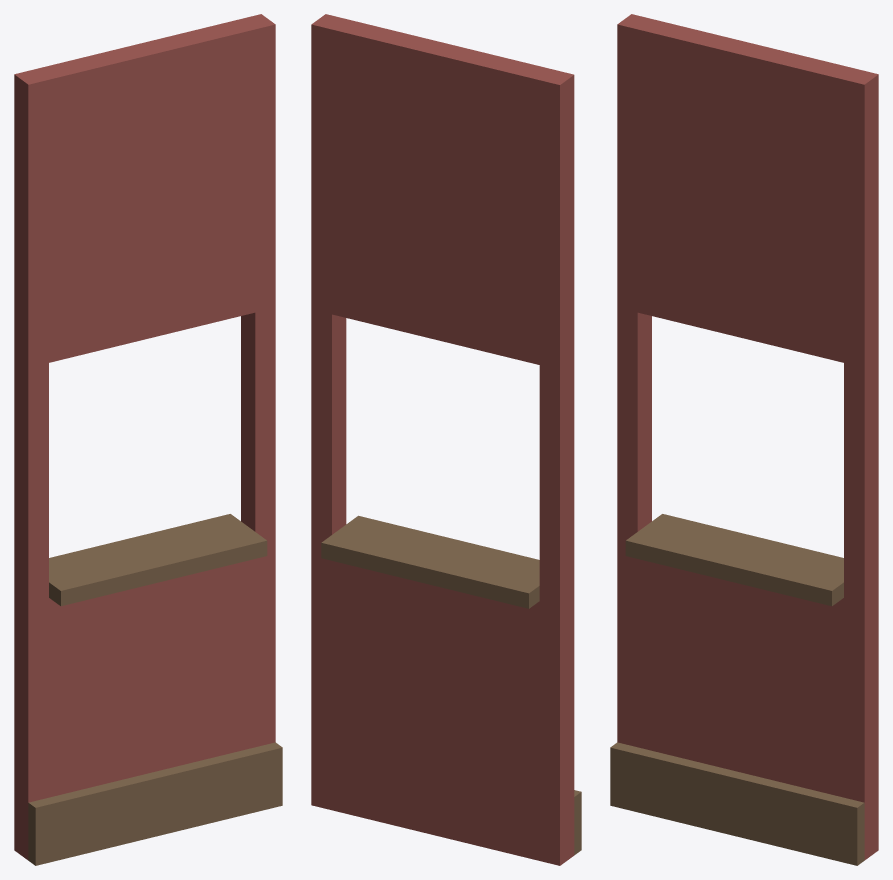
Rendered from Mesh_WallBaseboard_C2.fbx.
The picture shows the model from 3 angles, left to right: view 1: azimuth 30°, elevation 25°; view 2: azimuth 150°, elevation 25°; view 3: azimuth 330°, elevation 25°; orthographic projection.
Visible parts, largest first — view 1: Mesh_WallBaseboard_C2; view 2: Mesh_WallBaseboard_C2; view 3: Mesh_WallBaseboard_C2.
Part boxes in pixels (box(x1,y1,x2,y2)): Mesh_WallBaseboard_C2: box(14, 14, 282, 865); Mesh_WallBaseboard_C2: box(311, 14, 581, 865); Mesh_WallBaseboard_C2: box(610, 14, 878, 865).
Bounding box in the file's own units: 1 × 3 × 0.2574.
